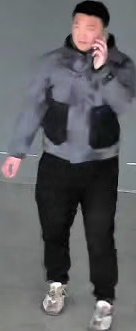phone: (79, 18, 135, 118)
